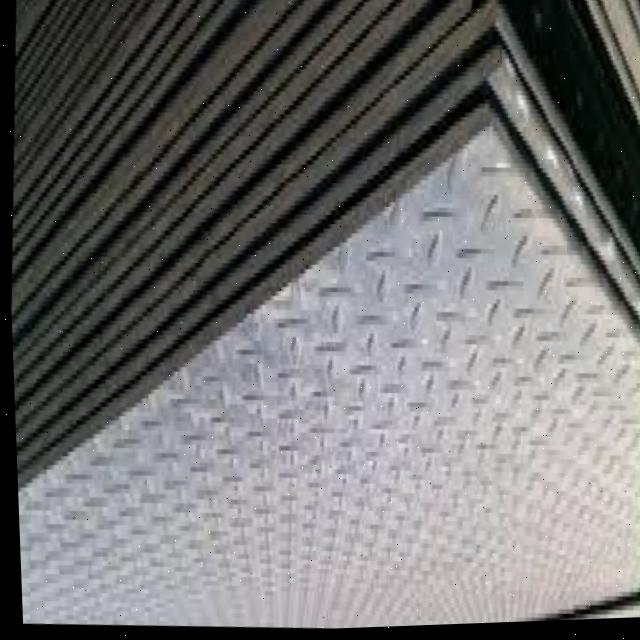Dry: (14, 126, 640, 631)
